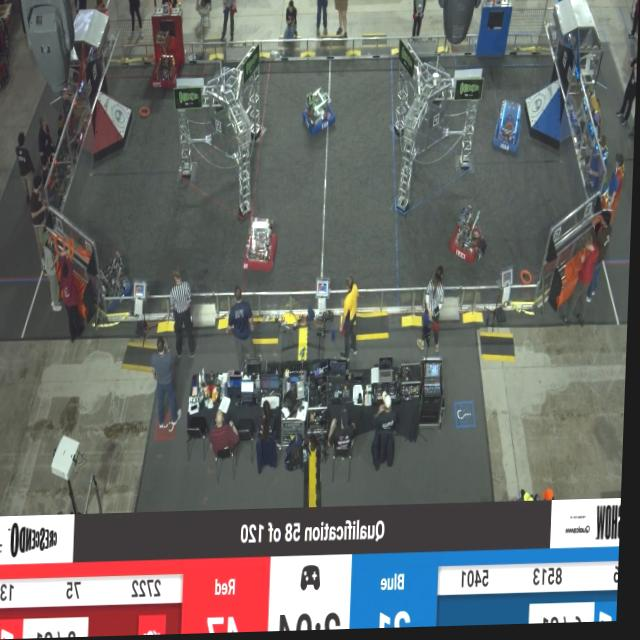Robot: (92, 246, 137, 329), (150, 11, 183, 94), (451, 204, 489, 271), (243, 220, 280, 278), (302, 87, 338, 142), (494, 100, 522, 160), (151, 52, 181, 92)
